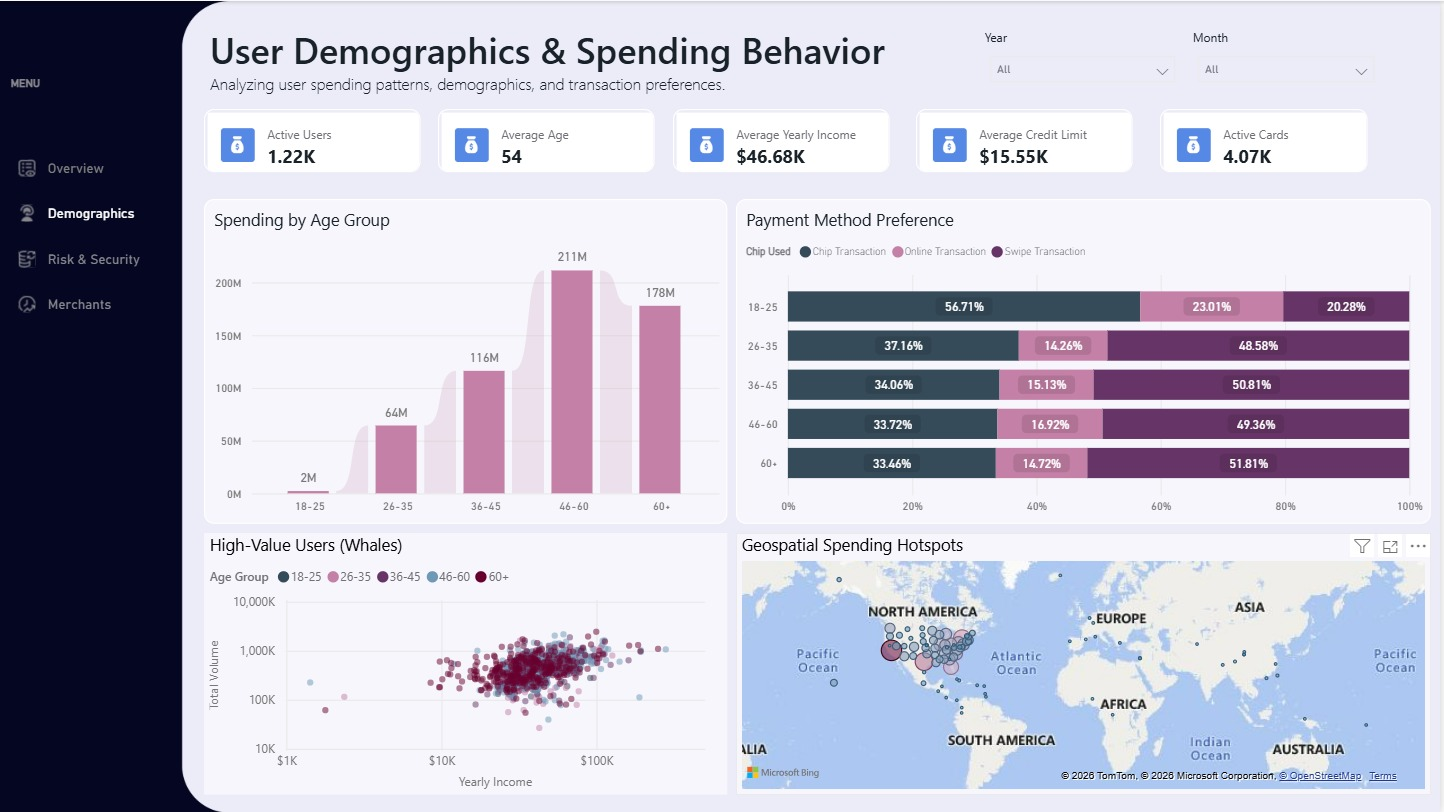

The dashboard page shown, as its layout file describes it:
{"tool":"powerbi","page":{"name":"Users","canvas":[1280,720],"ordinal":1},"visuals":[{"type":"image","box":[0,0,208,720],"z":0},{"type":"textbox","box":[184,16,632,80],"z":1000},{"type":"slicer","title":"Month","fields":{"Values":["clean_credit_behavior.month"]},"box":[1056,24,176,56],"z":2000},{"type":"slicer","title":"Year","fields":{"Values":["clean_credit_behavior.year"]},"box":[872,24,184,56],"z":3000},{"type":"cardVisual","fields":{"Data":["_Key Measures.Active Clients"]},"box":[184,96,192,56],"z":4000},{"type":"cardVisual","fields":{"Data":["clean_credit_behavior.Avg Age"]},"box":[392,96,192,56],"z":5000},{"type":"cardVisual","fields":{"Data":["Avg(clean_credit_behavior.credit_limit)"]},"box":[816,96,192,56],"z":6000},{"type":"cardVisual","fields":{"Data":["Avg(clean_credit_behavior.yearly_income)"]},"box":[600,96,192,56],"z":7000},{"type":"cardVisual","fields":{"Data":["_Key Measures.Active Cards"]},"box":[1032,96,184,56],"z":8000},{"type":"columnChart","title":"Spending by Age Group","fields":{"Category":["clean_credit_behavior.age_group"],"Y":["_Key Measures.Total Volume"]},"box":[184,176,464,288],"z":9000},{"type":"scatterChart","title":"High-Value Users (Whales)","fields":{"X":["Avg(clean_credit_behavior.yearly_income)"],"Y":["_Key Measures.Total Volume"],"Category":["clean_credit_behavior.client_id"],"Series":["clean_credit_behavior.age_group"]},"box":[184,472,464,232],"z":10000},{"type":"hundredPercentStackedBarChart","title":"Payment Method Preference","fields":{"Category":["clean_credit_behavior.age_group"],"Y":["_Key Measures.Total Volume"],"Series":["clean_credit_behavior.use_chip"]},"box":[656,176,616,288],"z":11000},{"type":"map","title":"Geospatial Spending Hotspots","fields":{"Category":["clean_credit_behavior.merchant_state"],"Size":["_Key Measures.Total Volume"]},"box":[656,472,616,232],"z":12000},{"type":"actionButton","box":[8,128,144,40],"z":13000},{"type":"actionButton","box":[8,168,144,40],"z":14000},{"type":"actionButton","box":[8,248,144,40],"z":15000},{"type":"actionButton","box":[8,208,144,40],"z":16000},{"type":"textbox","box":[8,56,144,40],"z":17000}]}

Visuals, with their boxes on the page's 1280x720 design canvas (x1, y1, x2, y2). These are canvas units, not pixel positions in the 1444x812 screenshot, which may show the page scaled, cropped or inside an application window:
image: (0,0,208,720)
textbox: (184,16,816,96)
"Month" slicer: (1056,24,1232,80)
"Year" slicer: (872,24,1056,80)
cardVisual - _Key Measures.Active Clients: (184,96,376,152)
cardVisual - clean_credit_behavior.Avg Age: (392,96,584,152)
cardVisual - Avg(clean_credit_behavior.credit_limit): (816,96,1008,152)
cardVisual - Avg(clean_credit_behavior.yearly_income): (600,96,792,152)
cardVisual - _Key Measures.Active Cards: (1032,96,1216,152)
"Spending by Age Group" columnChart: (184,176,648,464)
"High-Value Users (Whales)" scatterChart: (184,472,648,704)
"Payment Method Preference" hundredPercentStackedBarChart: (656,176,1272,464)
"Geospatial Spending Hotspots" map: (656,472,1272,704)
actionButton: (8,128,152,168)
actionButton: (8,168,152,208)
actionButton: (8,248,152,288)
actionButton: (8,208,152,248)
textbox: (8,56,152,96)
